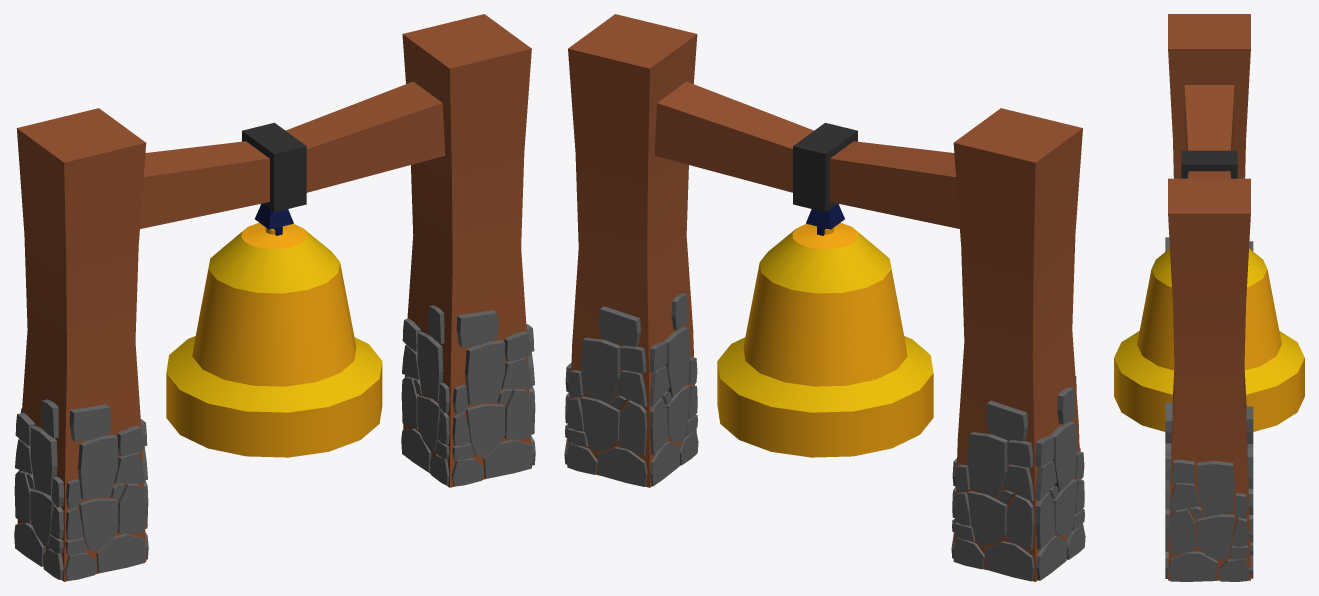
File: PFE-Props-Cloche.fbx
3 views of the same model, side by side, from view 1: azimuth 30°, elevation 25°; view 2: azimuth 150°, elevation 25°; view 3: azimuth 270°, elevation 25° (orthographic). The views are drawn at different scales.
Parts seen in each view (by area): view 1: Cube.002; view 2: Cube.002; view 3: Cube.002.
Boxes of the visible parts, x1,y1,x2,y2 form: Cube.002: (14, 14, 535, 581); Cube.002: (564, 14, 1085, 581); Cube.002: (1114, 14, 1304, 581).
Size of the model in its own units: 266 by 224 by 106.
